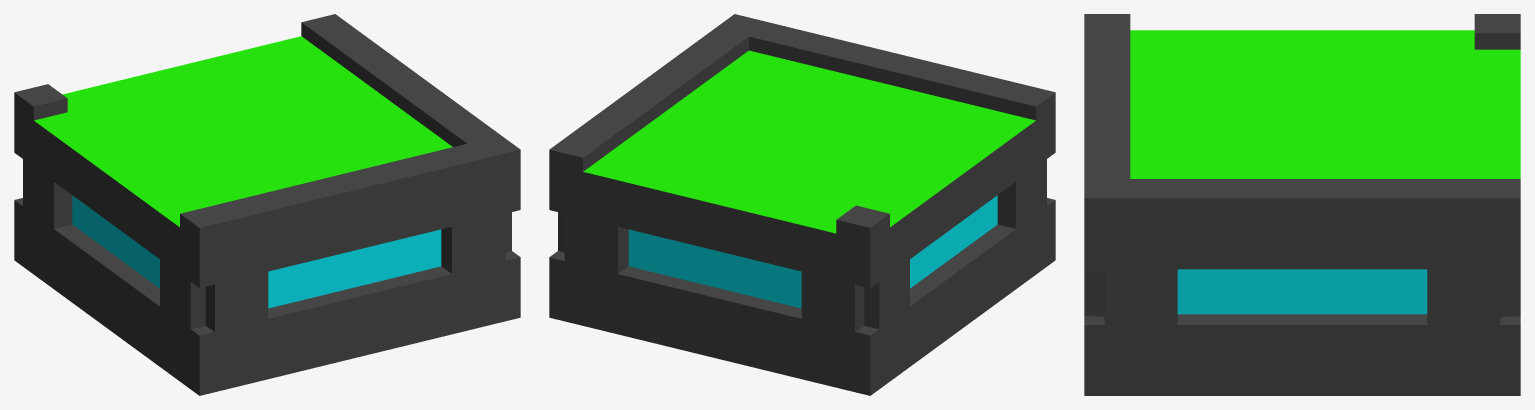
The model's file is Platform L.fbx.
3 views of the same model, side by side, from view 1: azimuth 30°, elevation 25°; view 2: azimuth 150°, elevation 25°; view 3: azimuth 270°, elevation 25° (orthographic). The views are drawn at different scales.
Visible parts, largest first — view 1: Platform L; view 2: Platform L; view 3: Platform L.
Part boxes in pixels (x1,y1,x2,y2): Platform L: (14,14,520,395); Platform L: (549,14,1055,395); Platform L: (1084,14,1520,395).
Bounding box in the file's own units: 200 × 99.98 × 200.
